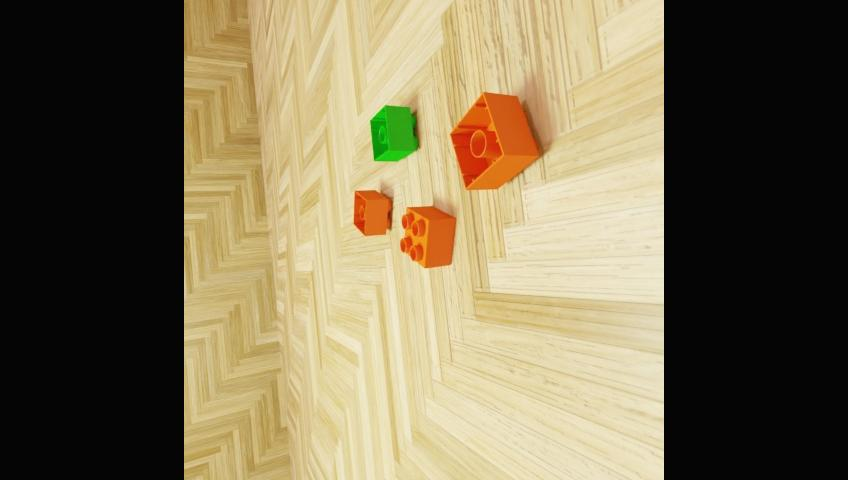2x2_green: (369, 105, 417, 161)
2x2_orange: (448, 92, 538, 189), (399, 206, 455, 268), (352, 190, 391, 236)
